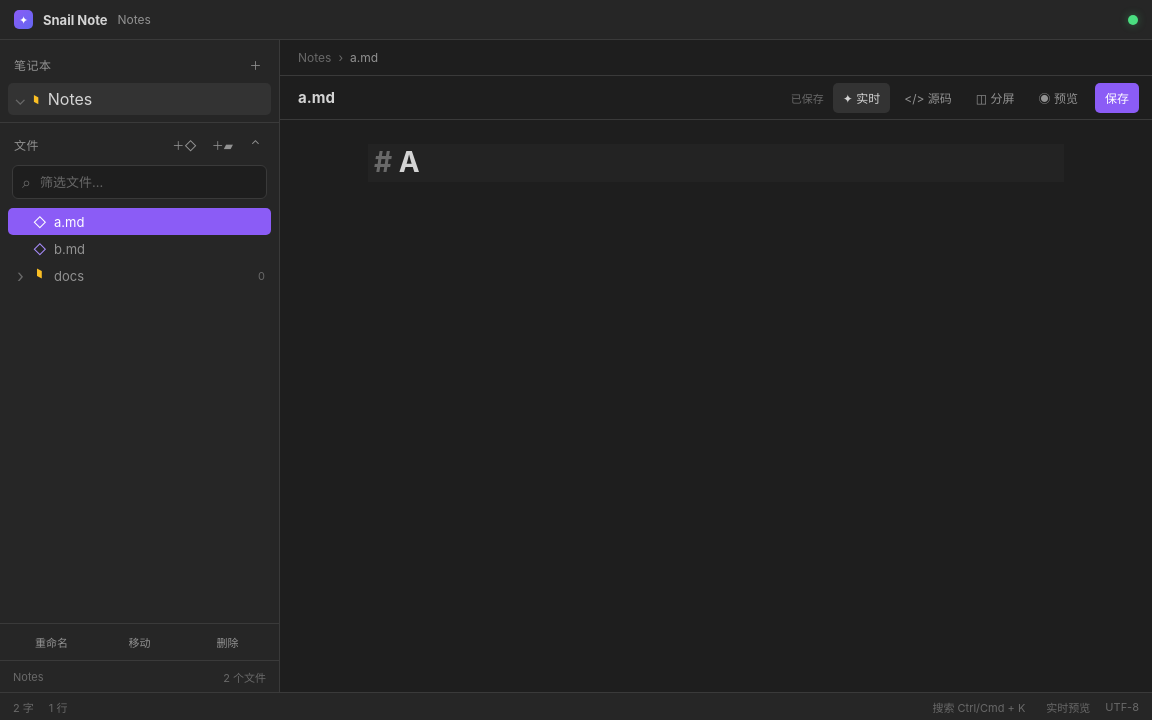
Test: App workspace navigation › moves an entry by picking a folder instead of typing a path
Expected: the text "已保存" is shown, [791,90,824,106]
Click the button "移动". click: {"x": 140, "y": 642}
box: [98,629,181,655]
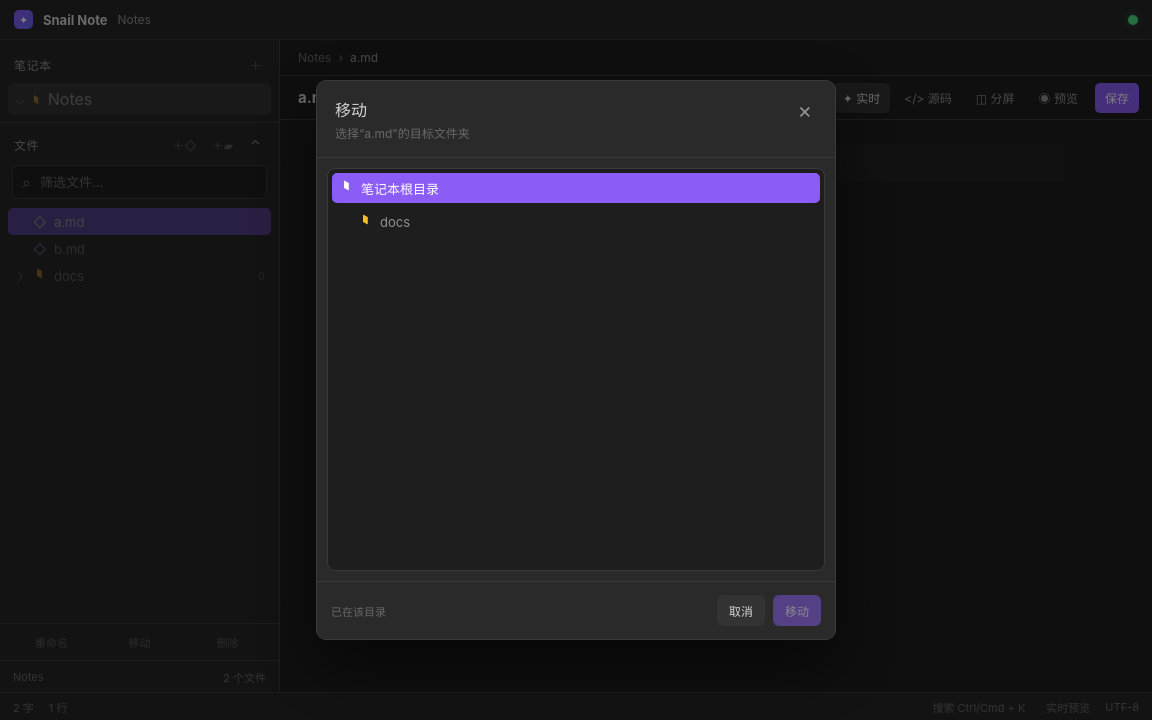
Click the button "▰ docs". click: {"x": 395, "y": 222}
box: [332,207,820,237]
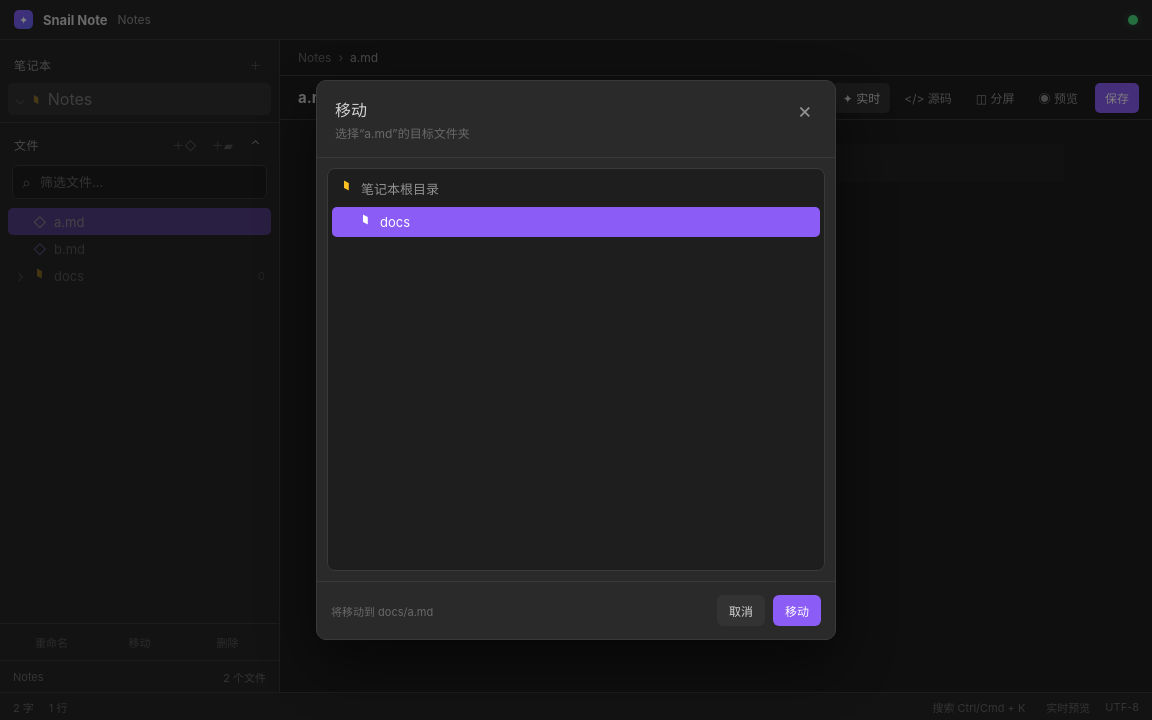
Click the button "移动". click: {"x": 797, "y": 610}
box: [773,595,821,626]
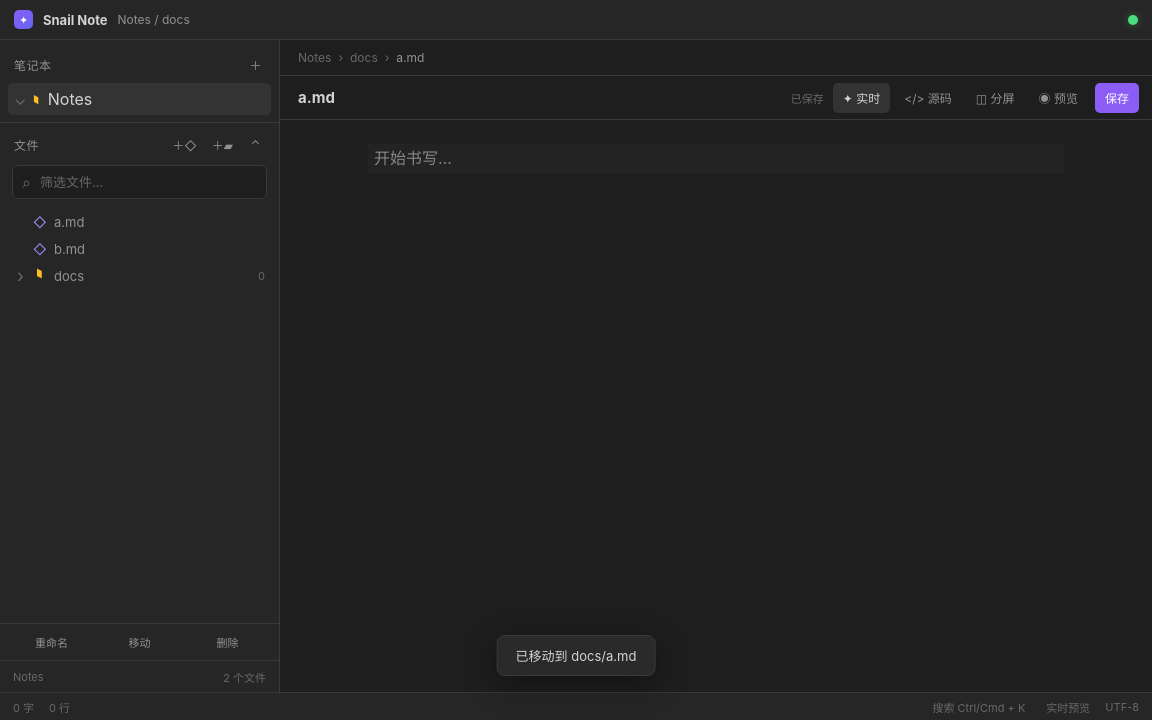
Expected: the text "已移动到 docs/a.md" is shown, [497,635,655,676]
